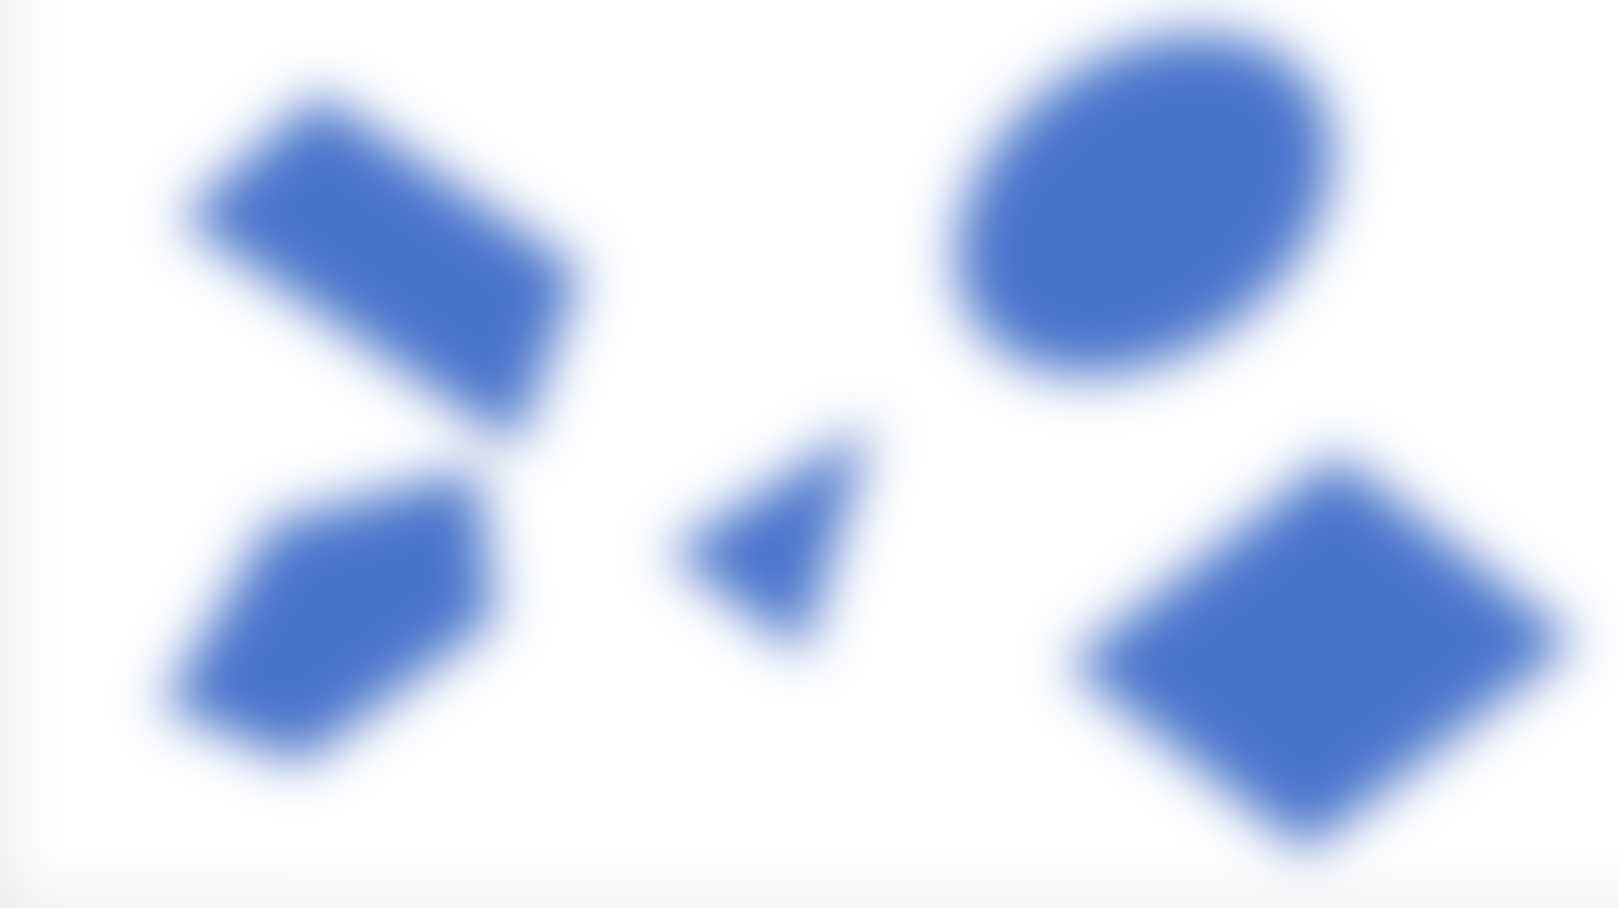circle: (905, 16, 1417, 377)
parallelogram: (1063, 442, 1595, 886)
pentagon: (154, 467, 529, 804)
trapezium: (164, 86, 651, 435)
triangle: (648, 422, 933, 638)
